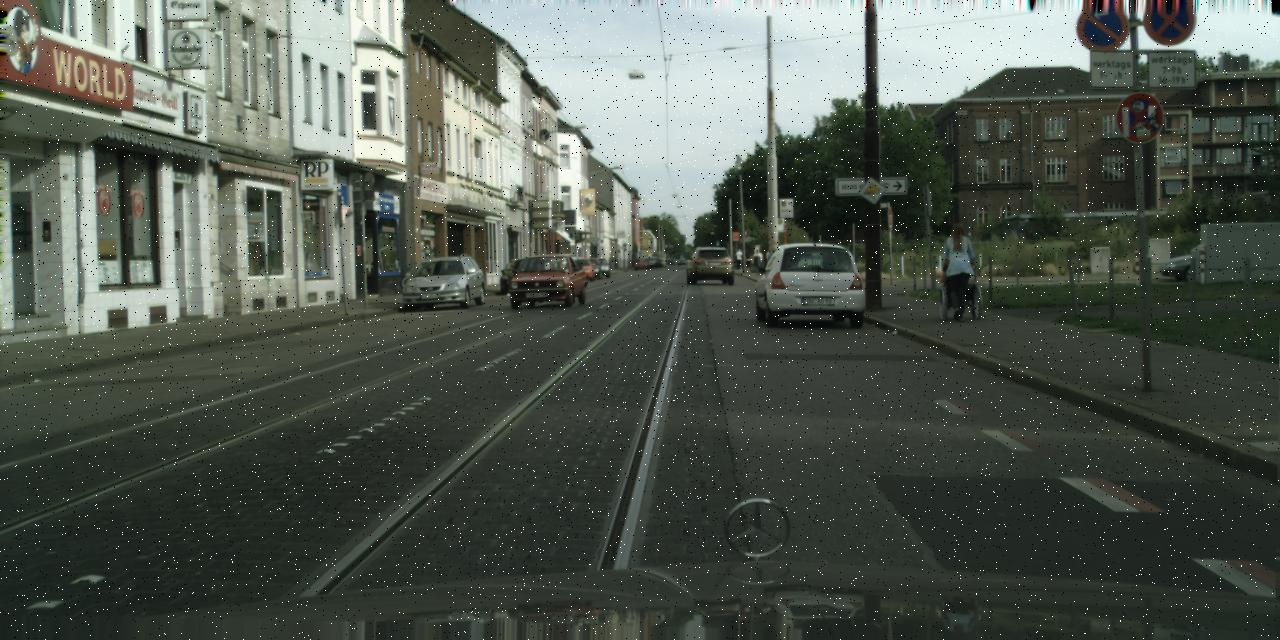ped: (938, 222, 978, 319), (735, 249, 743, 268)
